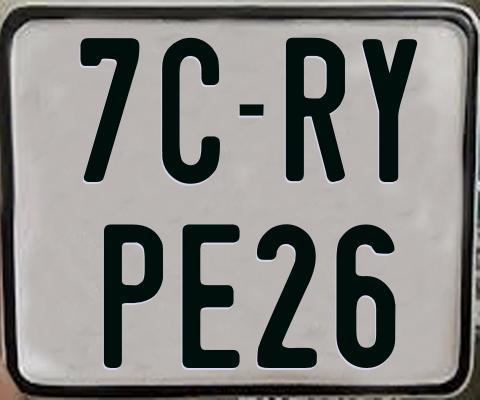2: (255, 223, 318, 369)
6: (335, 223, 395, 367)
7: (77, 37, 137, 186)
C: (160, 37, 222, 185)
E: (182, 221, 241, 367)
P: (104, 223, 168, 373)
R: (285, 35, 347, 180)
Y: (360, 39, 417, 182)
